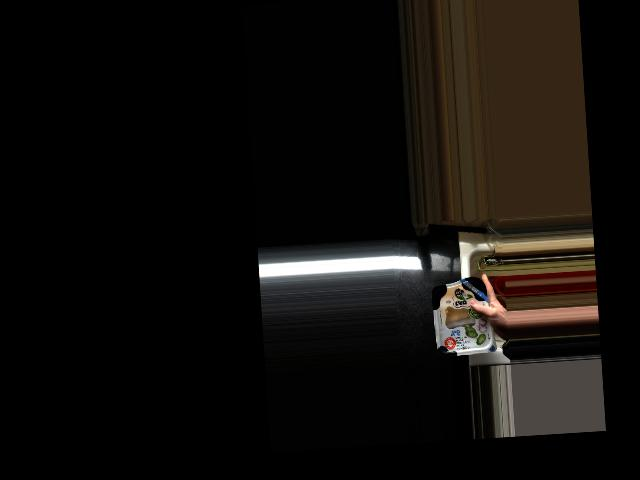cheese: (431, 275, 496, 354)
